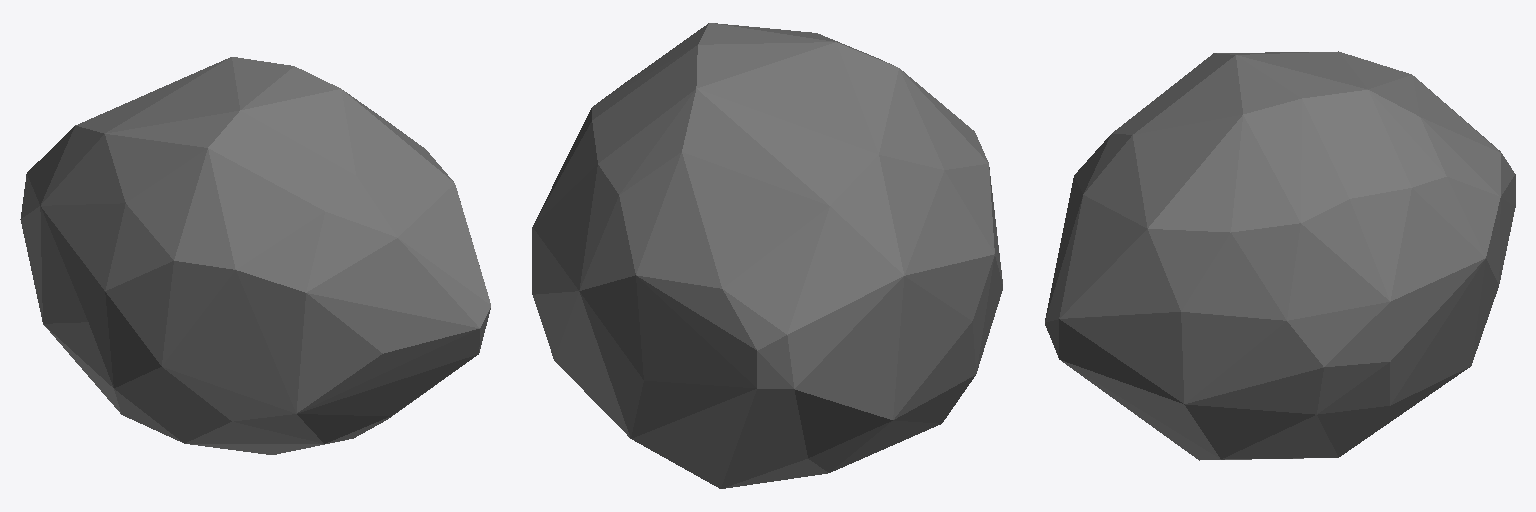
The robot description file, URDF, robot "lime_001":
<?xml version="1.0" ?>
<robot name="lime_001">
  <material name="color">
    <color rgba=".5 .5 .5 1"/>
  </material>

  <link name="base_link">
    <contact>
      <lateral_friction value="1.0"/>
      <rolling_friction value="0.001"/>
      <spinning_friction value="0.001"/>
      <inertia_scaling value="1.0"/>
    </contact>
    <inertial>
      <origin rpy="0 0 0" xyz="-1.64008e-05 -0.000125298 7.18695e-06"/>
       <mass value="0.1"/>
       <inertia ixx="1" ixy="0" ixz="0" iyy="1" iyz="0" izz="1"/>
    </inertial>

    <visual>
      <origin rpy="0 0 0" xyz="0 0 0"/>
      <geometry>
        <mesh filename="lime_001_vhacd_0_of_1.obj" scale="1 1 1"/>
      </geometry>
      <material name="color"/>
    </visual>

    <collision>
      <origin rpy="0 0 0" xyz="0 0 0"/>
      <geometry>
        <mesh filename="lime_001_vhacd_0_of_1.obj" scale="1 1 1"/>
      </geometry>
    </collision>

  </link>
</robot>

--- What the picture shows (computed from the rendered views, not written in the file) ---
Views: 3 orthographic renders of the robot side by side, from view 1: azimuth 30°, elevation 25°; view 2: azimuth 150°, elevation 25°; view 3: azimuth 270°, elevation 25°.
Robot: lime_001 — 1 links, 0 joints (none); root link base_link; default pose: every joint at zero.
Visible links, largest first — view 1: base_link; view 2: base_link; view 3: base_link.
Boxes of the visible links, x1=… form: base_link: x1=20, y1=57, x2=490, y2=454; base_link: x1=532, y1=23, x2=1002, y2=488; base_link: x1=1045, y1=51, x2=1515, y2=460.
Size in the robot's own frame: 0.0619 by 0.0708 by 0.0596 metres.
Meshes: 1 distinct files referenced, 1 mesh visuals loaded (1 OBJ).